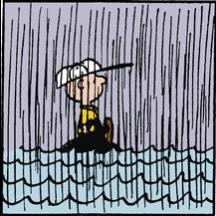charlie: (52, 58, 113, 146)
